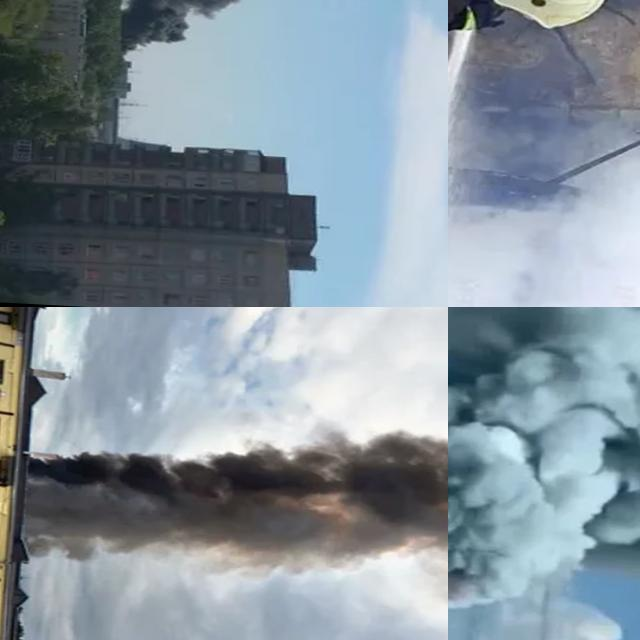smoke: (16, 403, 448, 592), (448, 307, 640, 622)
